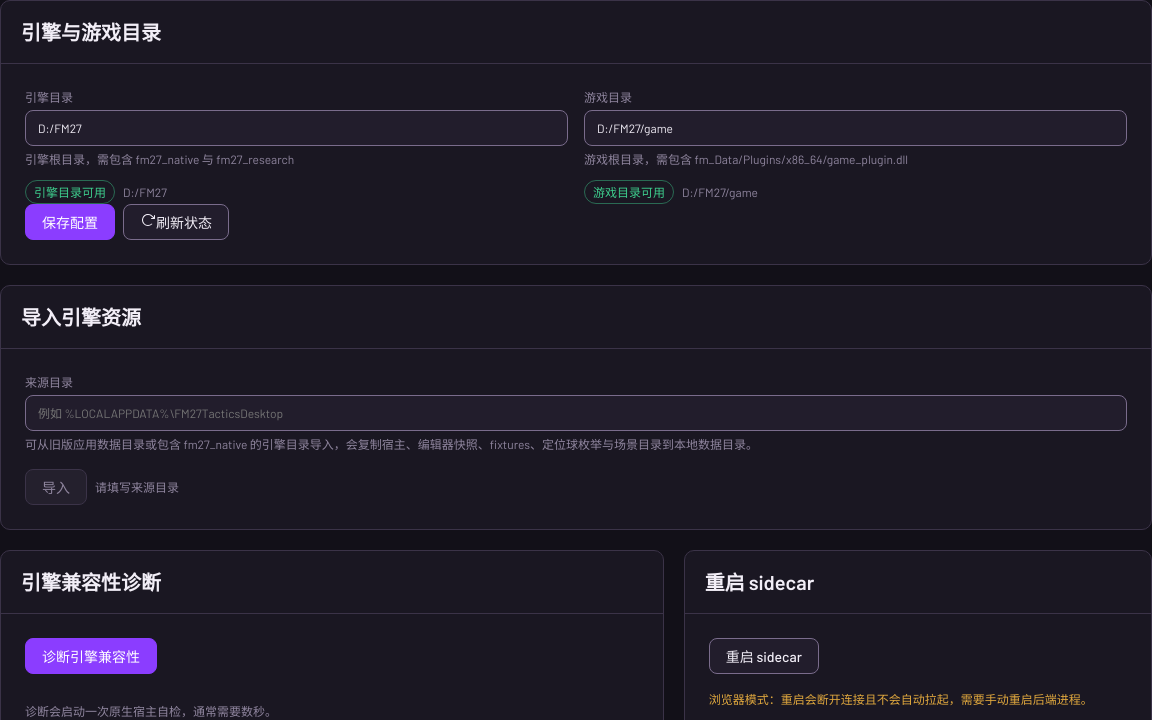
引擎与游戏目录 › 只修改游戏目录时保存会同时提交两个当前目录
The width and height of the screenshot is (1152, 720).
Replace the text in the field labelled "游戏目录" with "D:/FM27/game2" at (856, 128), box [584,110,1127,146]
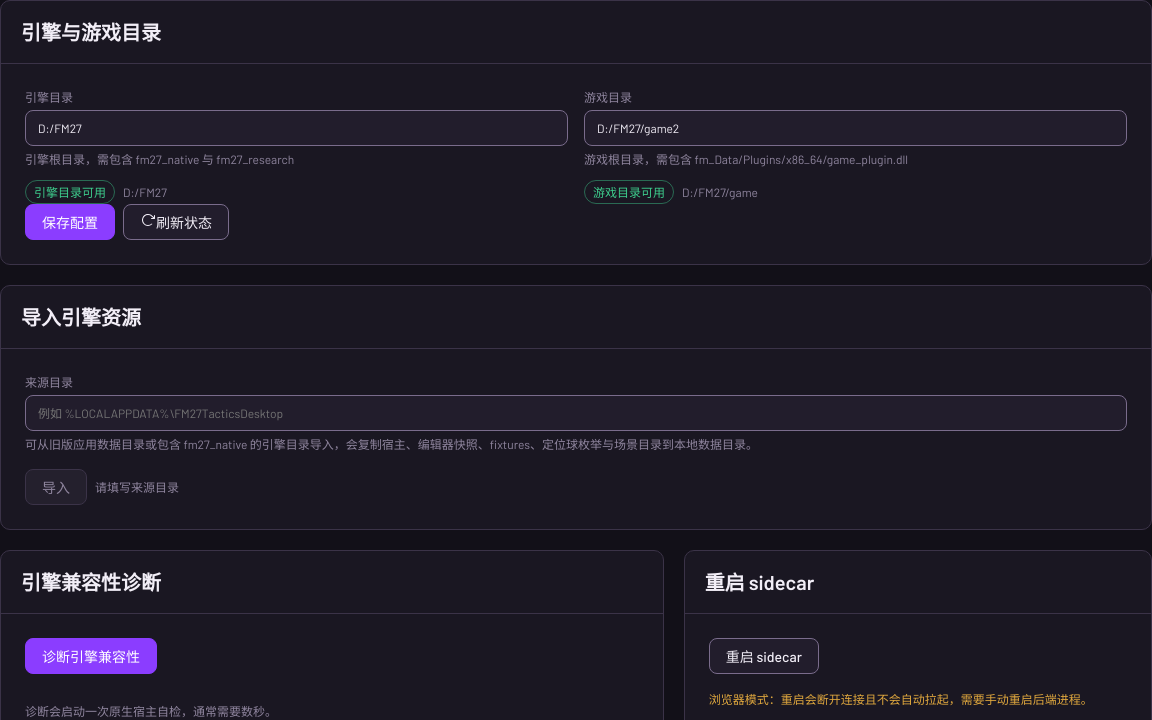
Click the button "保存配置".
click(70, 222)  # box [25,204,115,240]
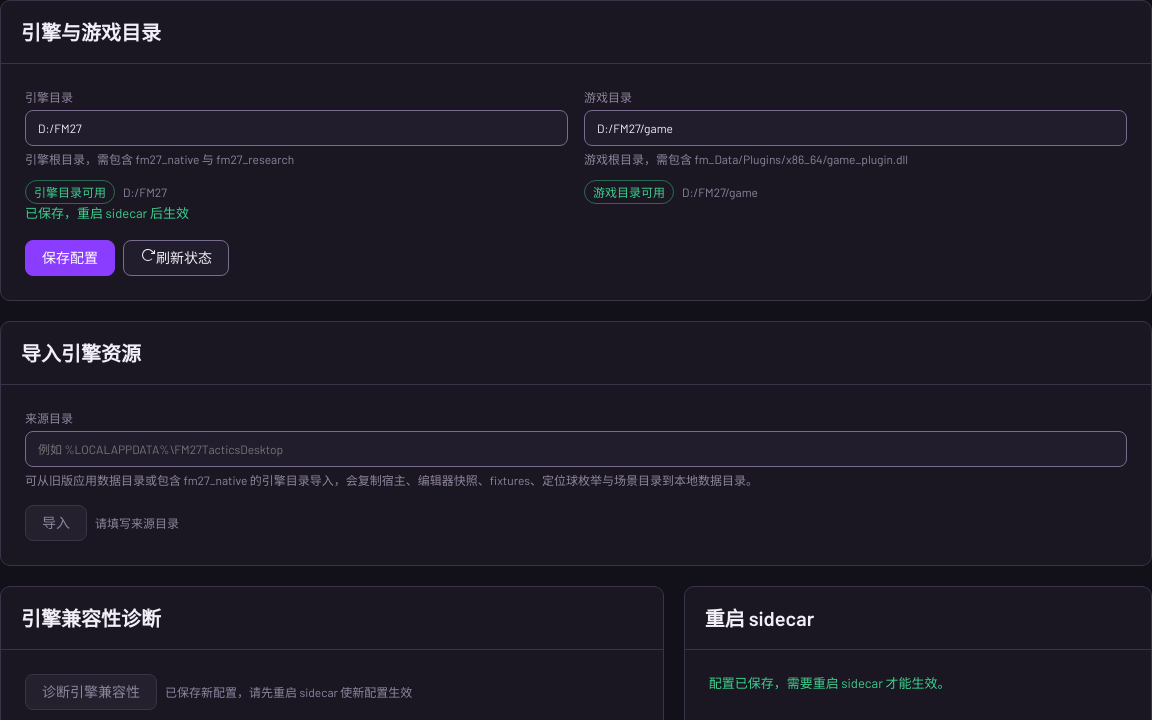
Result: the text "已保存，重启 sidecar 后生效" is shown at [25,205,189,221]
